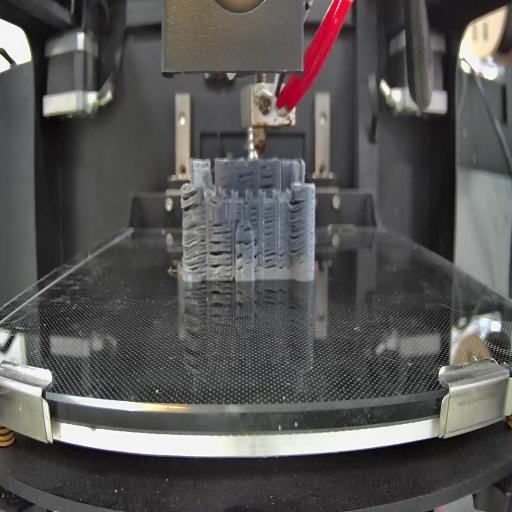cracks: (182, 223, 206, 276), (289, 196, 304, 259), (209, 240, 232, 274), (182, 190, 204, 212), (238, 169, 257, 190), (260, 164, 276, 188), (211, 220, 232, 238), (264, 207, 274, 237), (263, 248, 276, 271), (234, 202, 243, 225), (278, 248, 287, 271), (237, 239, 258, 248), (251, 205, 259, 226), (236, 252, 244, 272), (220, 175, 230, 190), (253, 252, 260, 272), (244, 224, 251, 232)
